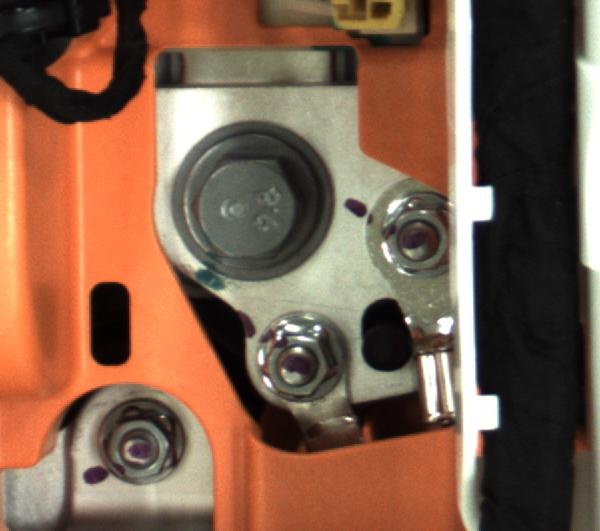screw_s: (259, 309, 355, 407), (94, 396, 188, 496), (382, 191, 459, 278)
